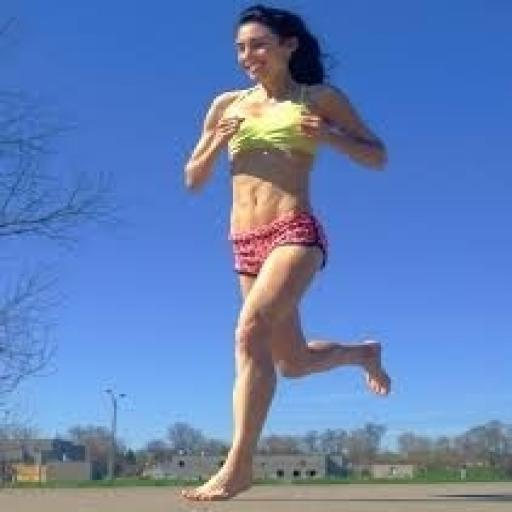running: (177, 2, 396, 506)
